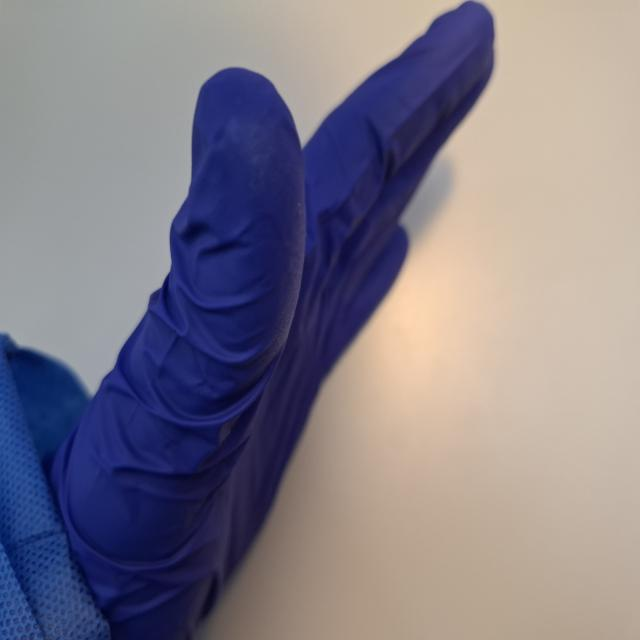glove_on: (29, 0, 495, 640)
